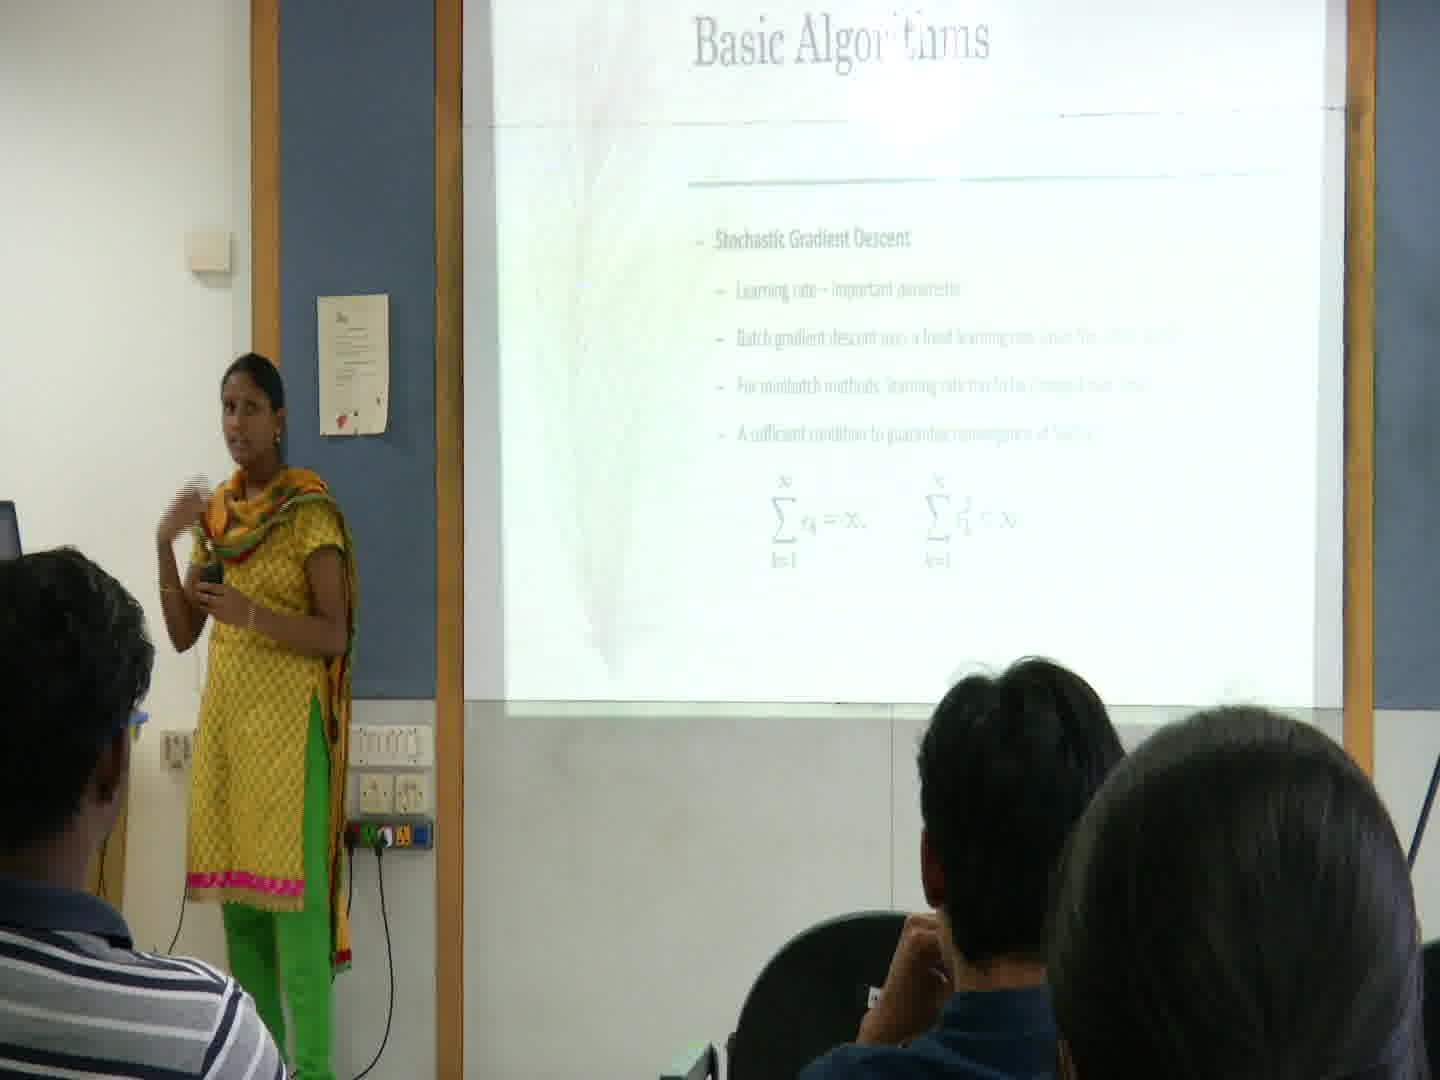eq: (762, 472, 870, 571), (921, 469, 1020, 572)
